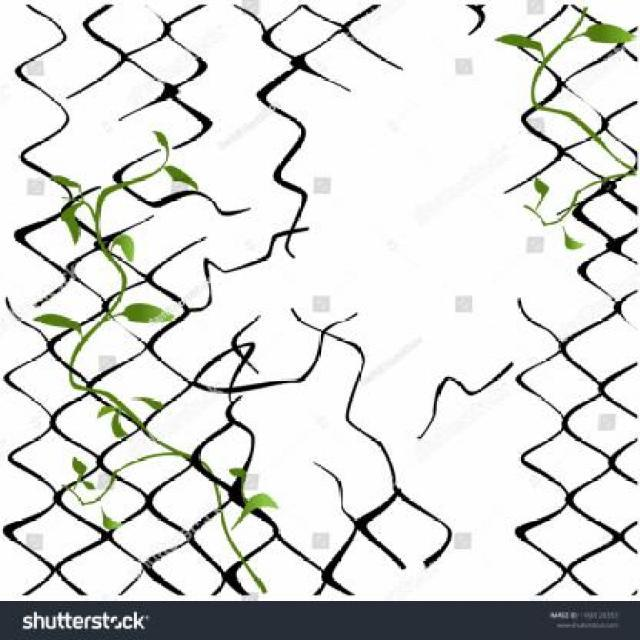fence line: (270, 23, 564, 586)
